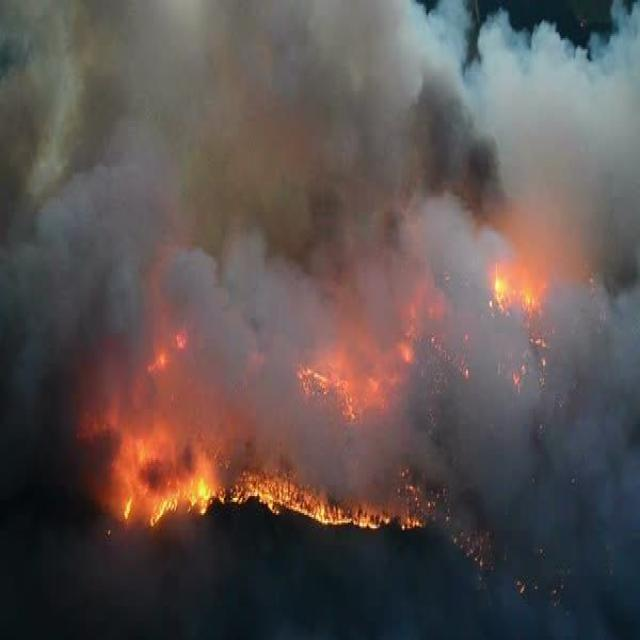Fire: (109, 440, 396, 535), (482, 213, 586, 328), (296, 320, 409, 407)
Smoke: (19, 0, 275, 249), (260, 18, 480, 242), (471, 26, 636, 208), (0, 245, 96, 545), (518, 379, 640, 536), (183, 254, 291, 427), (440, 392, 523, 520)
